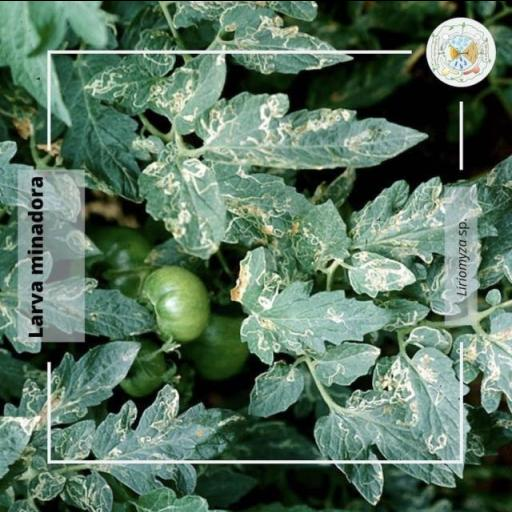disease_tomato: (193, 88, 429, 171), (240, 277, 398, 369), (138, 156, 230, 258), (386, 346, 460, 458), (146, 54, 226, 136), (230, 24, 352, 74), (290, 199, 352, 272), (344, 249, 418, 297), (248, 360, 304, 418), (312, 339, 382, 385)
